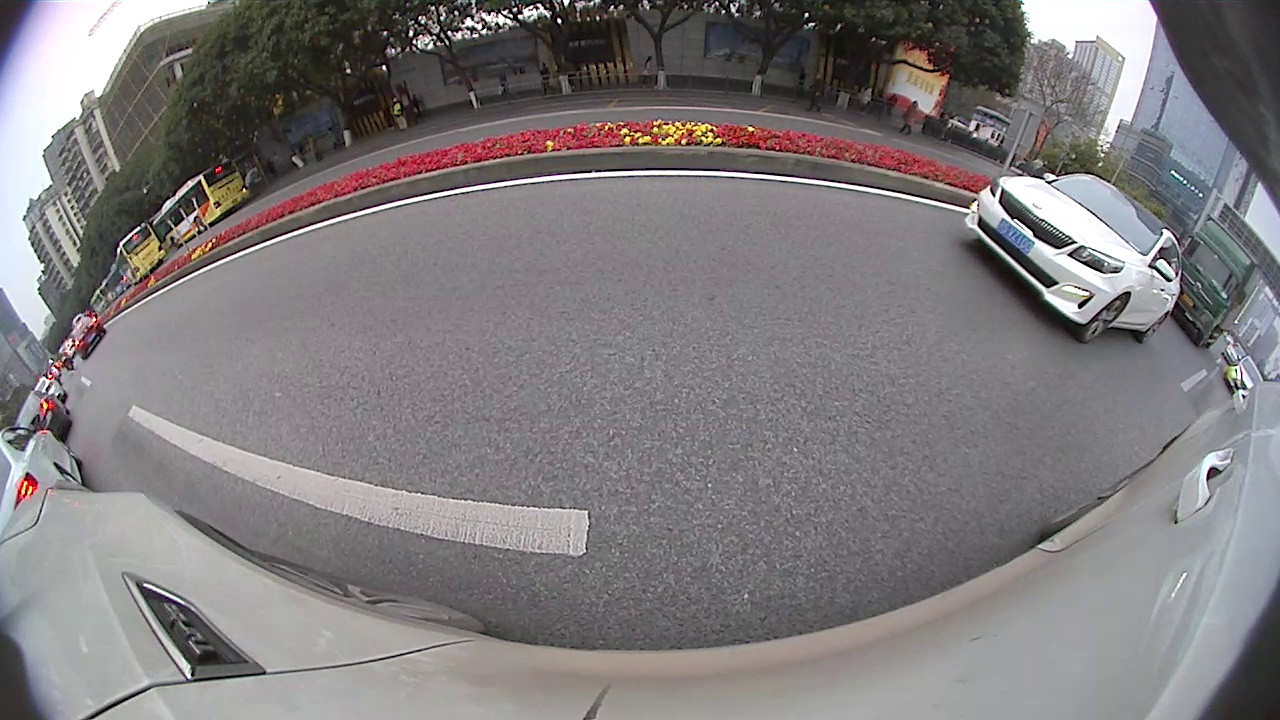bus: (151, 154, 252, 253), (110, 222, 169, 289)
car: (961, 171, 1184, 346), (2, 427, 88, 536), (21, 396, 71, 442), (70, 314, 106, 360), (1229, 358, 1262, 396), (31, 380, 67, 407)
front: (1080, 295, 1128, 343)
rear: (1140, 313, 1168, 342)
truck: (1178, 216, 1257, 347)
